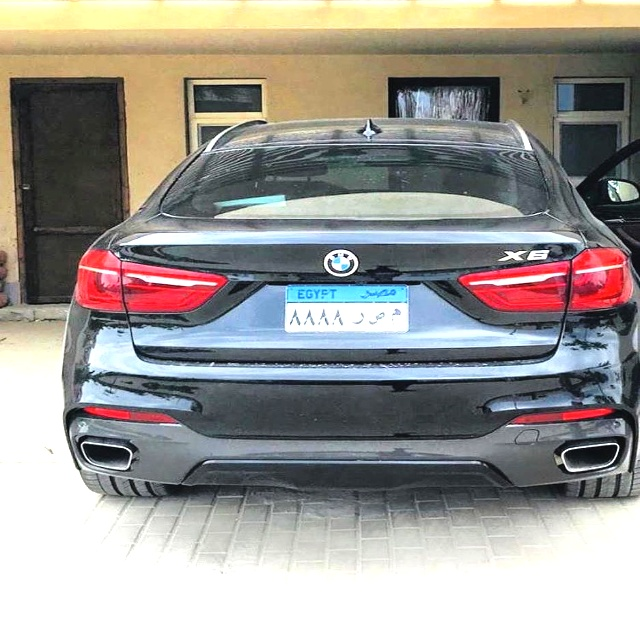License Plate: (282, 282, 410, 336)
